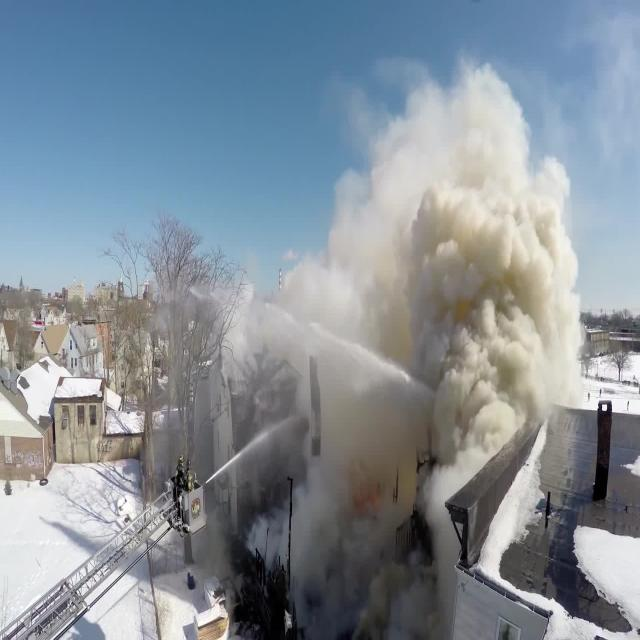Smoke: (249, 83, 571, 599)
